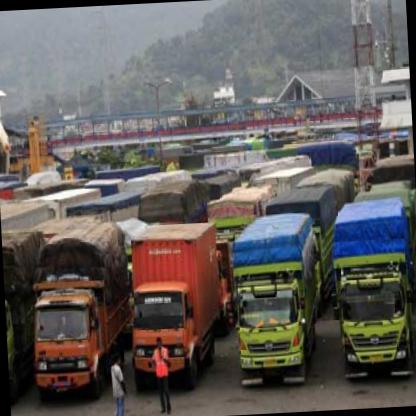truck: (337, 265, 414, 388), (31, 286, 104, 409), (232, 277, 307, 395), (126, 280, 198, 397)
